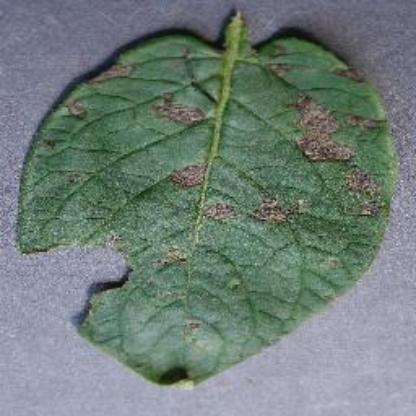Early-Blight: (17, 10, 396, 390)
